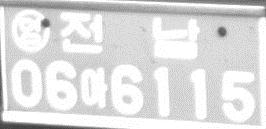0: (9, 57, 43, 109)
1: (146, 64, 183, 117), (184, 67, 218, 119)
5: (219, 69, 256, 123)
6: (43, 59, 78, 112), (109, 63, 144, 114)
아: (79, 65, 109, 109)
영: (9, 8, 51, 53)
전남_D: (59, 11, 201, 60)
